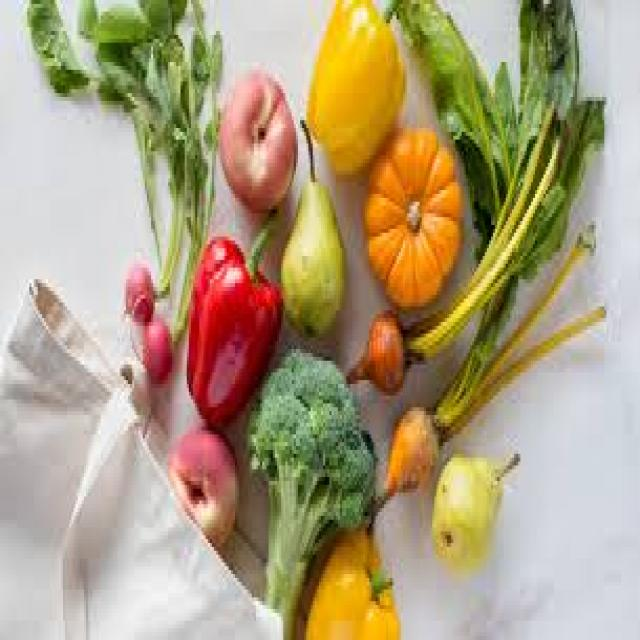organic waste: (434, 0, 606, 442), (401, 0, 550, 357), (384, 0, 520, 345), (27, 0, 185, 295), (244, 341, 374, 636), (493, 0, 607, 283), (185, 213, 281, 423), (165, 0, 220, 337), (361, 120, 459, 299), (304, 0, 402, 178), (275, 113, 342, 330), (218, 70, 294, 213), (300, 524, 397, 636), (430, 446, 518, 562), (166, 419, 237, 551), (372, 400, 434, 508), (27, 0, 88, 93), (344, 306, 403, 396), (94, 35, 143, 105), (92, 0, 154, 43), (136, 318, 172, 380), (120, 260, 153, 326), (166, 58, 187, 120), (205, 31, 222, 89), (187, 35, 206, 85), (74, 0, 96, 39)
